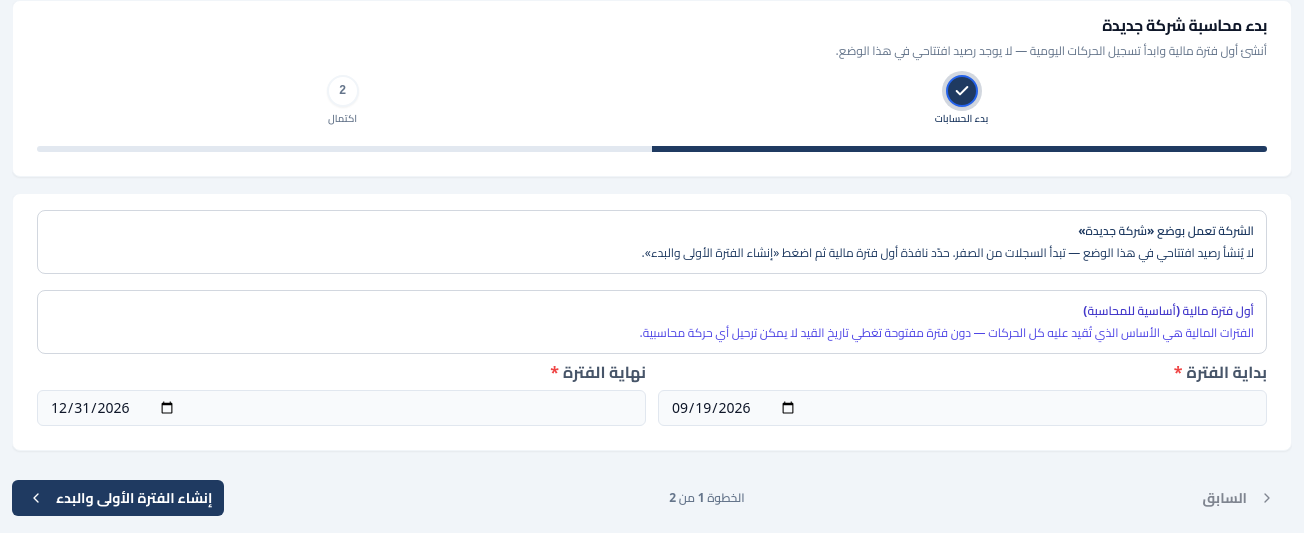
Test case: GuidedTransitionWizard › creates the first financial period and finishes for a new company
Check: the heading "بدء محاسبة شركة جديدة" is shown, box [1102, 10, 1267, 40]
Step 1. Click the button "إنشاء الفترة الأولى والبدء" → point(118, 498), box [12, 480, 224, 516]
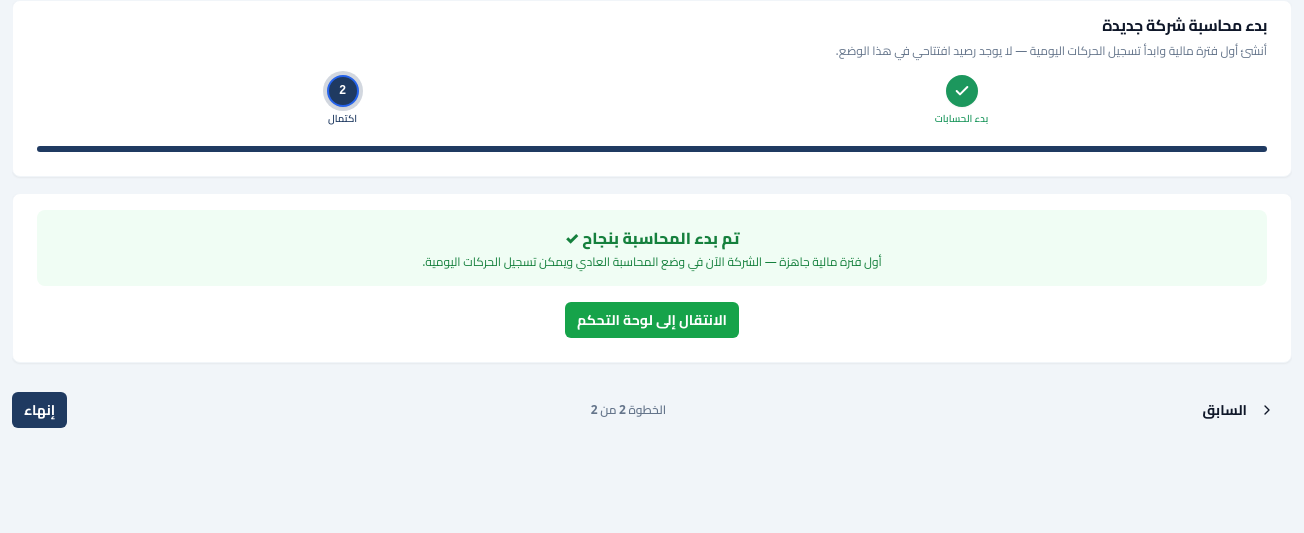
Check: the text "تم بدء المحاسبة بنجاح ✓" is shown, box [565, 223, 739, 253]
